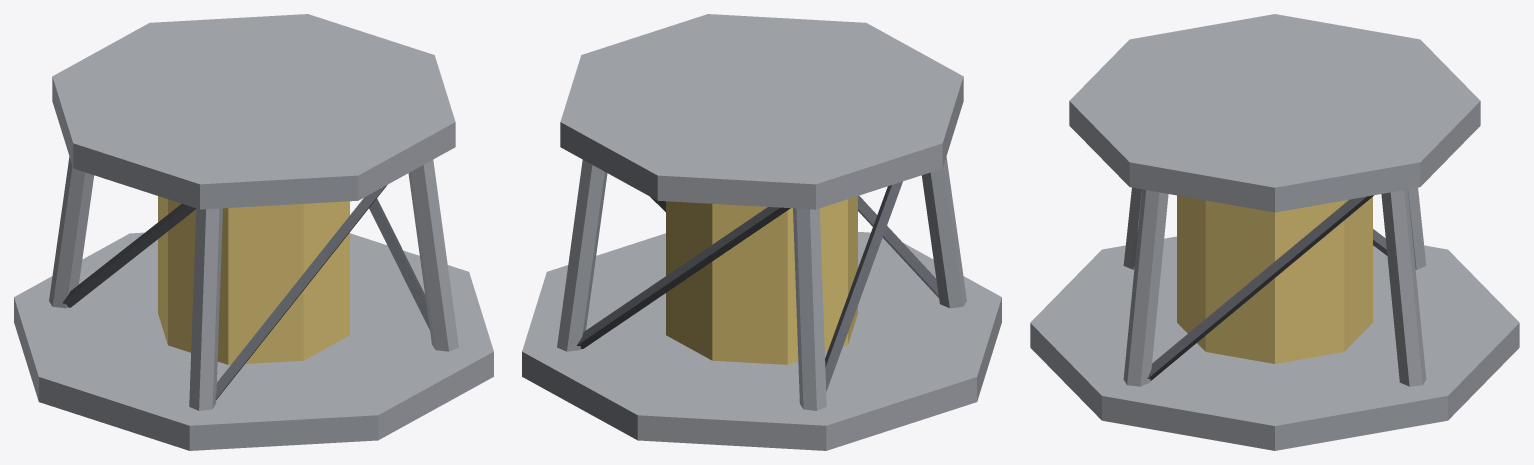
The model's file is frame.glb.
3 renders of one model, left to right at view 1: azimuth 30°, elevation 25°; view 2: azimuth 150°, elevation 25°; view 3: azimuth 270°, elevation 25°, orthographic.
Visible parts, largest first — view 1: frame; view 2: frame; view 3: frame.
Part boxes in pixels (left/top/right/bottom): frame: left=14, top=14, right=493, bottom=450; frame: left=522, top=14, right=1001, bottom=450; frame: left=1030, top=14, right=1519, bottom=450.
Size of the model in its own units: 2.5 by 1.39 by 2.5.
